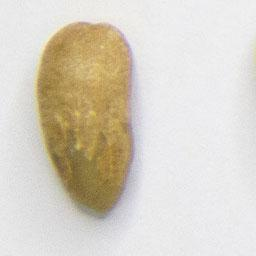longberry: (32, 19, 140, 215)
